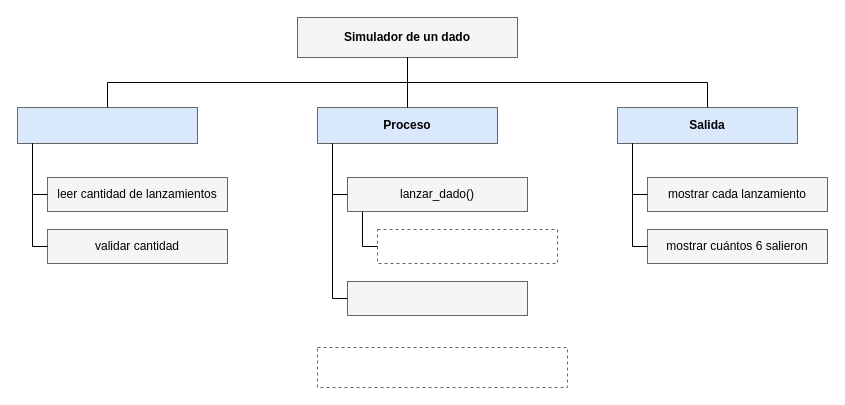
The diagram is 845 pixels wide and 405 high, and some of its shapes have lost their labels. The shapes that lost their labels are listed below. From the top down, each one's centre as x and y in pixels, then its label:
At point 107,125: "Entrada".
At point 467,246: "random.randint(1, 6)".
At point 437,298: "contar los 6".
At point 442,367: "Borde punteado: función de librería (ya existe, no se escribe)".
